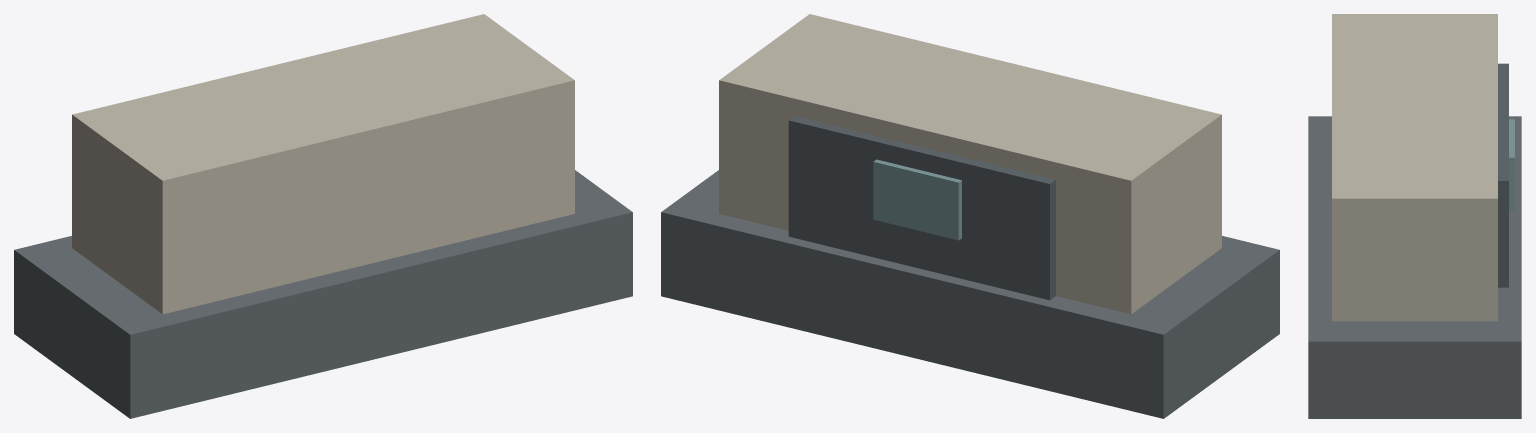
Rendered from iz3_school_labbench_01.glb.
3 views of the same model, side by side, from view 1: azimuth 30°, elevation 25°; view 2: azimuth 150°, elevation 25°; view 3: azimuth 270°, elevation 25° (orthographic). The views are drawn at different scales.
Visible parts, largest first — view 1: cabinet, base; view 2: cabinet, base, panel, display; view 3: cabinet, base, panel, display.
Part boxes in pixels (x1,y1,x2,y2): cabinet: (72, 14, 574, 314); base: (14, 170, 632, 418); cabinet: (719, 14, 1221, 314); base: (661, 170, 1279, 418); panel: (788, 116, 1055, 300); display: (873, 159, 961, 240); cabinet: (1332, 14, 1497, 321); base: (1308, 116, 1521, 418); panel: (1498, 63, 1508, 287); display: (1509, 119, 1514, 210).
Size of the model in its own units: 2 by 0.828 by 0.8.
